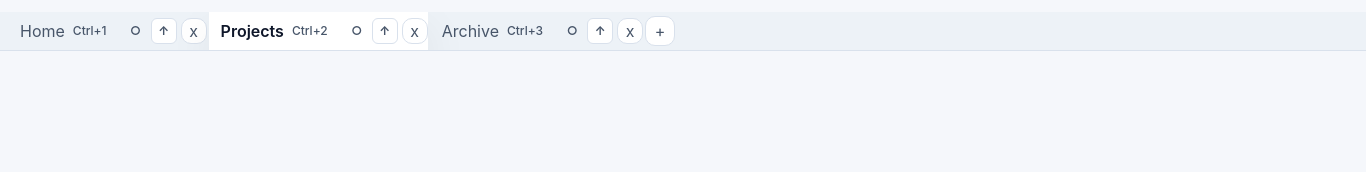
WorkspaceTabBar › removes a deleted workspace and falls back to a visible workspace when reload fails
Expected: the button "Projects Ctrl+2" is shown, 209,12 -> 340,50
Click the button named "Delete Projects".
click(415, 31)  # box 402,18 -> 428,44
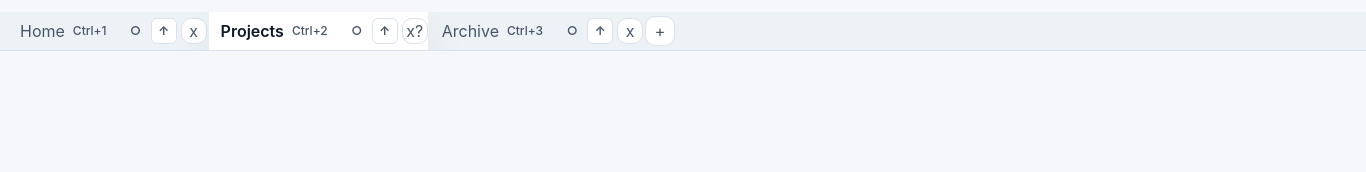
Click the button named "Delete Projects".
click(415, 31)  # box 402,18 -> 428,44
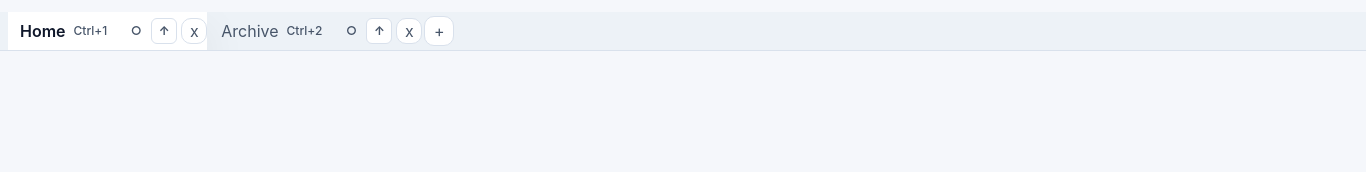
Expected: the button "Home Ctrl+1" is shown, 8,12 -> 119,50
Expected: the button "Projects" is gone
